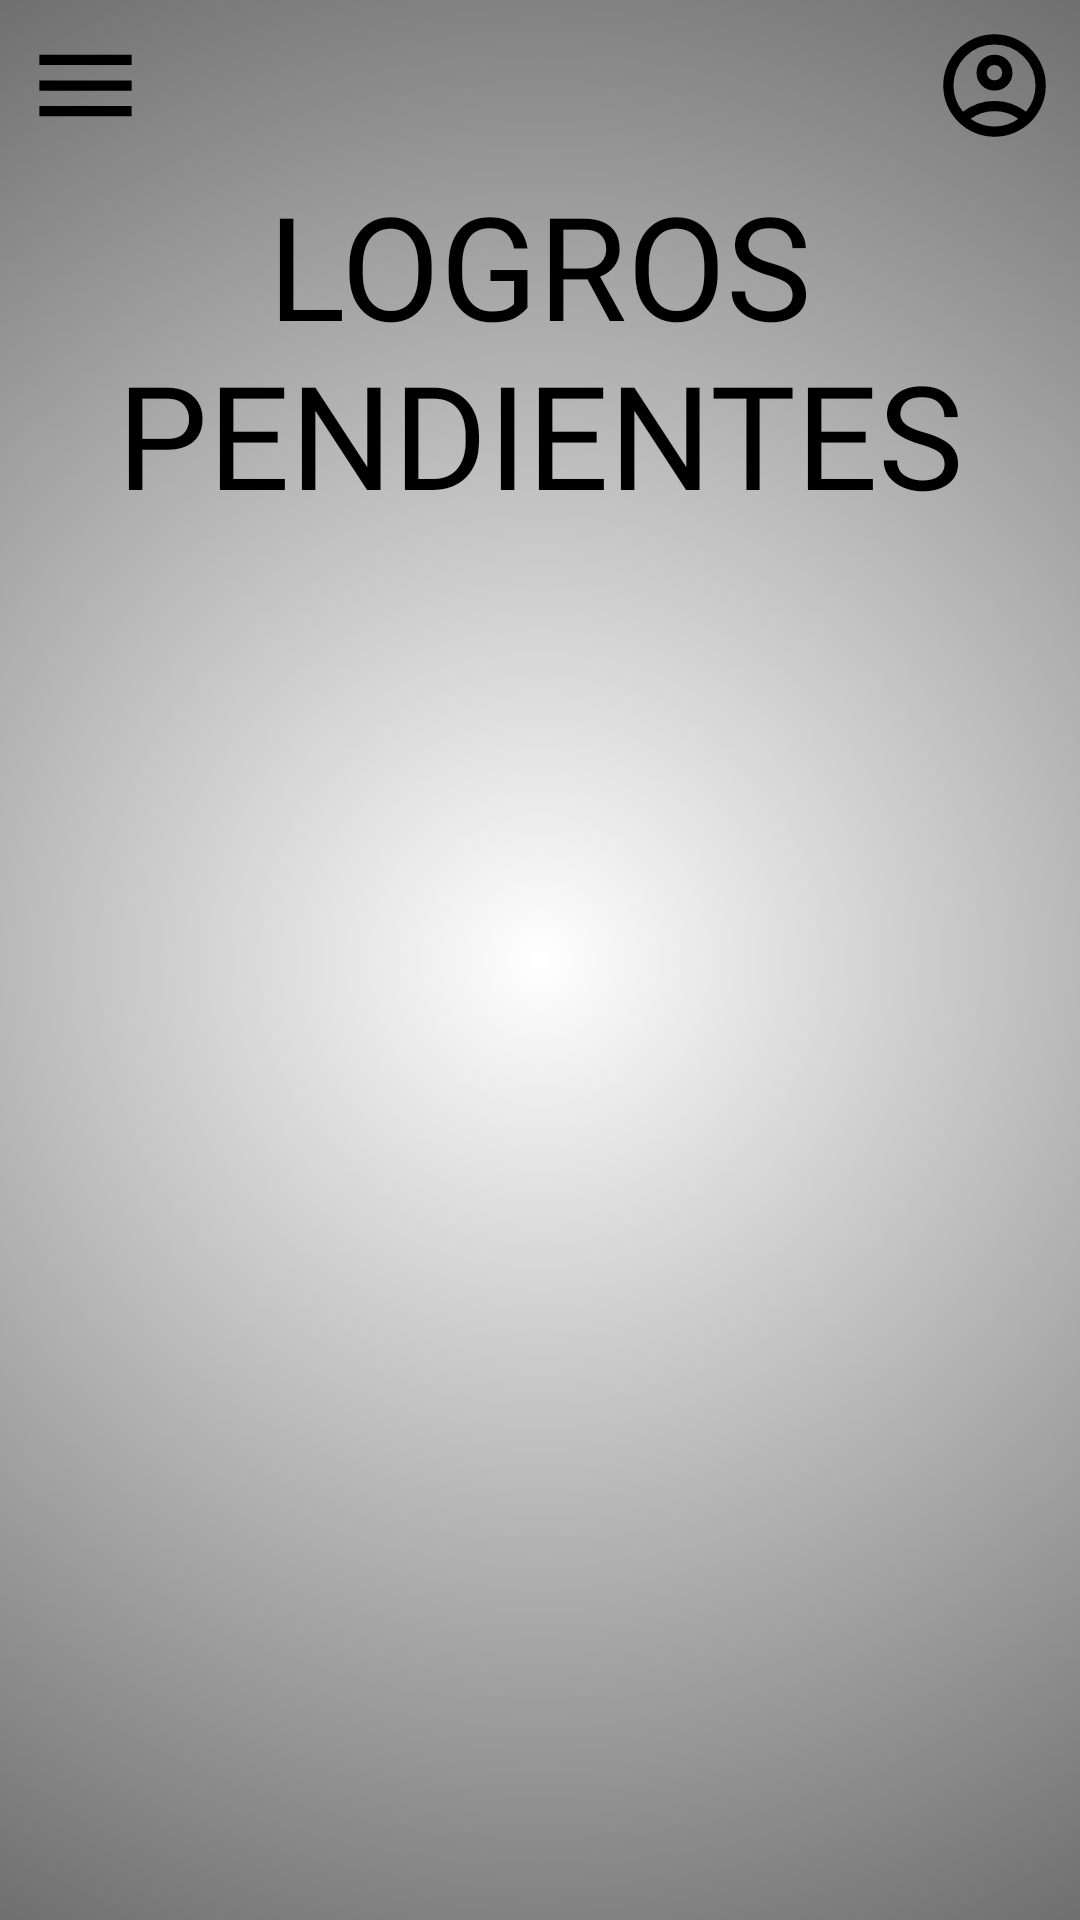

Where icons sit on this 1080*1920 app screen, as (x1, y1, x2, y2):
account: (943, 34, 1046, 137)
menu: (39, 54, 132, 117)
